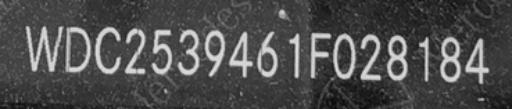letter: (20, 21, 68, 72), (92, 23, 124, 78), (254, 29, 284, 80), (62, 24, 92, 73), (382, 33, 412, 82), (201, 25, 227, 80), (174, 28, 202, 79), (464, 35, 492, 86), (148, 23, 174, 76), (331, 29, 357, 82), (306, 30, 334, 79), (122, 26, 148, 77), (228, 28, 254, 79), (356, 31, 382, 82), (437, 34, 463, 83), (282, 31, 306, 82), (412, 34, 436, 83)
